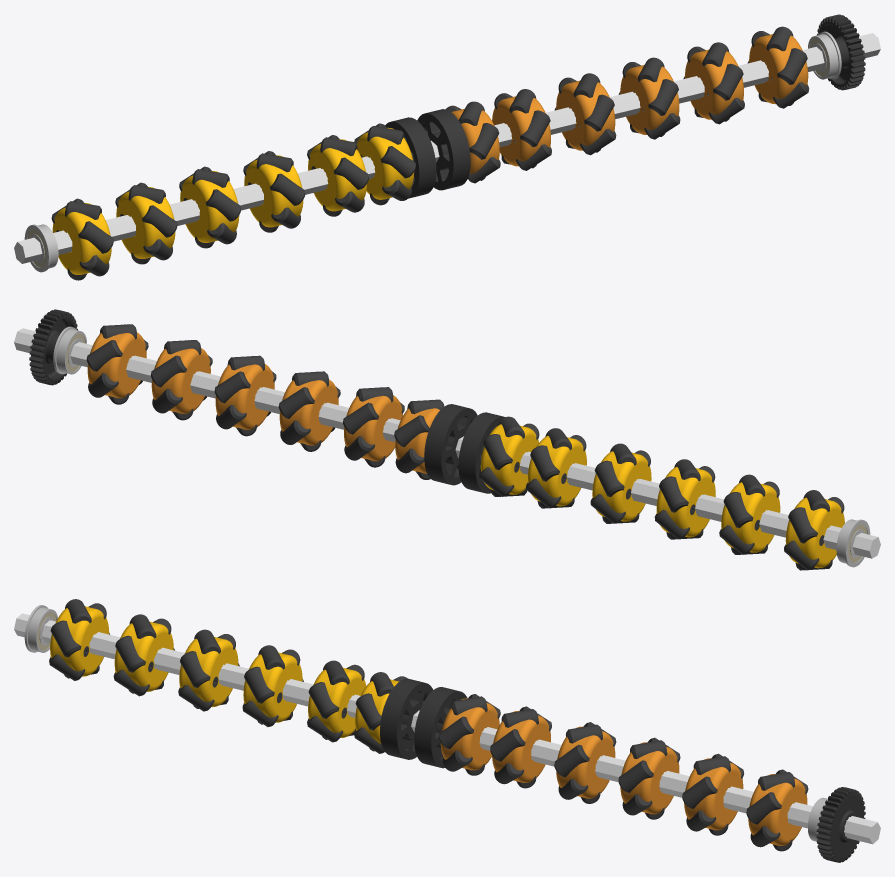
3 views of the same model, one above another, from view 1: azimuth 30°, elevation 25°; view 2: azimuth 150°, elevation 25°; view 3: azimuth 330°, elevation 25° (orthographic).
Visible parts, largest first — view 1: 2" Vectored Intake Wheel (Right-Hand, 1/2" Hex Bore, Yellow) (×6), 2" Vectored Intake Wheel (Left-Hand, 1/2" Hex Bore, Orange) (×6), 1/2" Hex (25" L, 7075 Aluminum), 2" Thrifty Squish Wheel (45A, 1" Wide, 1/2" Hex Bore) (×2), 1/2" Hex Bore Bearing (1.125" OD, 0.313" WD, Shielded, Flang (×2), 36t Pocketed Steel Spur Gear (20 DP, 1/2" Hex Bore); view 2: 2" Vectored Intake Wheel (Right-Hand, 1/2" Hex Bore, Yellow) (×6), 2" Vectored Intake Wheel (Left-Hand, 1/2" Hex Bore, Orange) (×6), 1/2" Hex (25" L, 7075 Aluminum), 2" Thrifty Squish Wheel (45A, 1" Wide, 1/2" Hex Bore) (×2), 1/2" Hex Bore Bearing (1.125" OD, 0.313" WD, Shielded, Flang (×2), 36t Pocketed Steel Spur Gear (20 DP, 1/2" Hex Bore); view 3: 2" Vectored Intake Wheel (Left-Hand, 1/2" Hex Bore, Orange) (×6), 2" Vectored Intake Wheel (Right-Hand, 1/2" Hex Bore, Yellow) (×6), 1/2" Hex (25" L, 7075 Aluminum), 2" Thrifty Squish Wheel (45A, 1" Wide, 1/2" Hex Bore) (×2), 36t Pocketed Steel Spur Gear (20 DP, 1/2" Hex Bore), 1/2" Hex Bore Bearing (1.125" OD, 0.313" WD, Shielded, Flang.
Part boxes in pixels (x1,y1,x2,y2): 2" Vectored Intake Wheel (Right-Hand, 1/2" Hex Bore, Yellow) (×6): (51, 123, 415, 280); 2" Vectored Intake Wheel (Left-Hand, 1/2" Hex Bore, Orange) (×6): (446, 26, 809, 183); 1/2" Hex (25" L, 7075 Aluminum): (14, 33, 880, 263); 2" Thrifty Squish Wheel (45A, 1" Wide, 1/2" Hex Bore) (×2): (385, 109, 470, 198); 1/2" Hex Bore Bearing (1.125" OD, 0.313" WD, Shielded, Flang (×2): (24, 31, 841, 272); 36t Pocketed Steel Spur Gear (20 DP, 1/2" Hex Bore): (816, 14, 865, 90); 2" Vectored Intake Wheel (Right-Hand, 1/2" Hex Bore, Yellow) (×6): (479, 416, 844, 570); 2" Vectored Intake Wheel (Left-Hand, 1/2" Hex Bore, Orange) (×6): (86, 324, 444, 479); 1/2" Hex (25" L, 7075 Aluminum): (14, 328, 880, 558); 2" Thrifty Squish Wheel (45A, 1" Wide, 1/2" Hex Bore) (×2): (424, 404, 505, 493); 1/2" Hex Bore Bearing (1.125" OD, 0.313" WD, Shielded, Flang (×2): (53, 326, 870, 567); 36t Pocketed Steel Spur Gear (20 DP, 1/2" Hex Bore): (29, 309, 78, 385); 2" Vectored Intake Wheel (Left-Hand, 1/2" Hex Bore, Orange) (×6): (439, 694, 808, 851); 2" Vectored Intake Wheel (Right-Hand, 1/2" Hex Bore, Yellow) (×6): (49, 599, 407, 753); 1/2" Hex (25" L, 7075 Aluminum): (14, 613, 880, 844); 2" Thrifty Squish Wheel (45A, 1" Wide, 1/2" Hex Bore) (×2): (380, 678, 467, 768); 36t Pocketed Steel Spur Gear (20 DP, 1/2" Hex Bore): (816, 787, 865, 862); 1/2" Hex Bore Bearing (1.125" OD, 0.313" WD, Shielded, Flang: (24, 605, 57, 652).
Bounding box in the file's own units: 0.635 × 0.0519 × 0.054.
